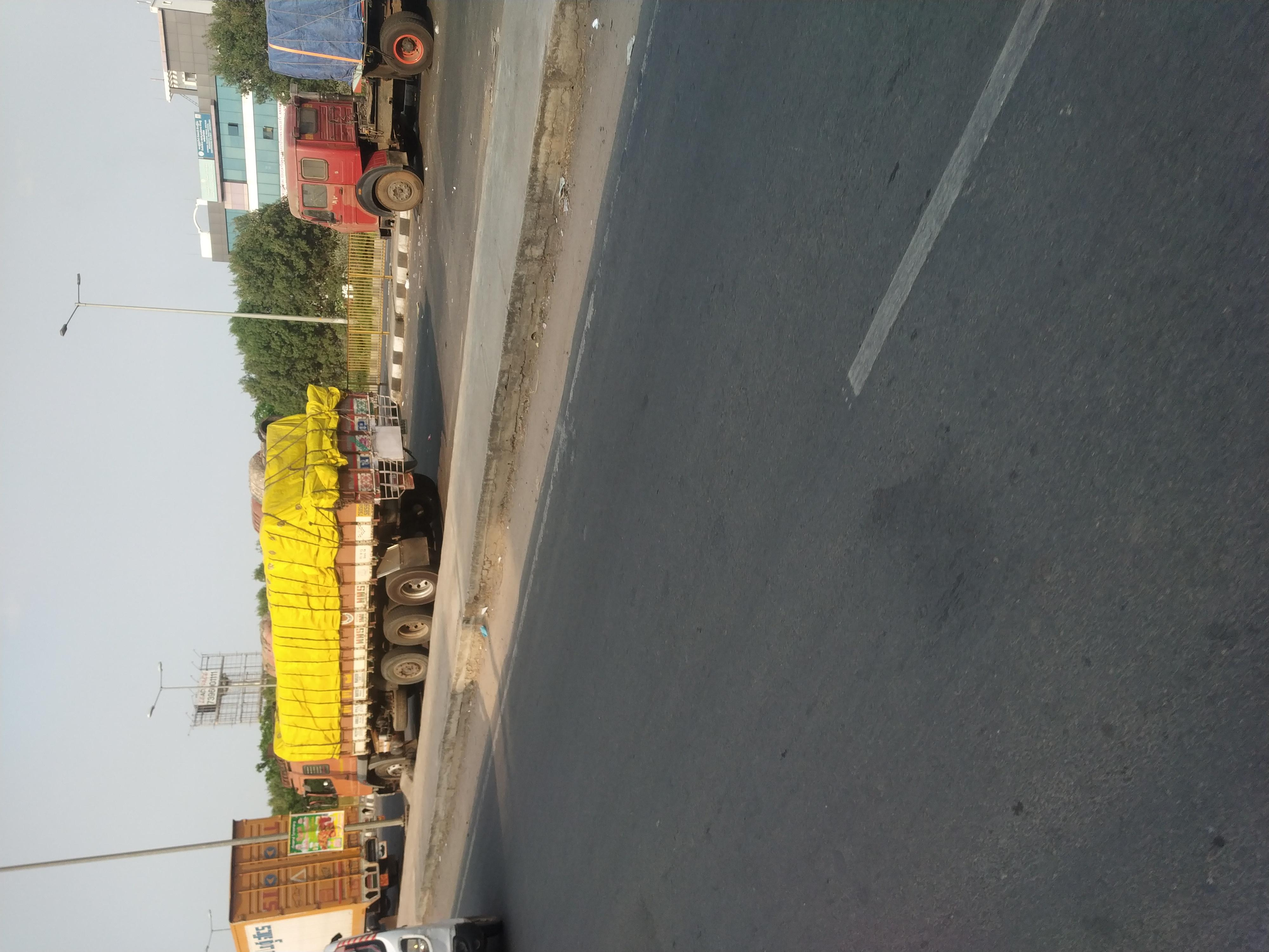License-Plate: (580, 267, 599, 278)
